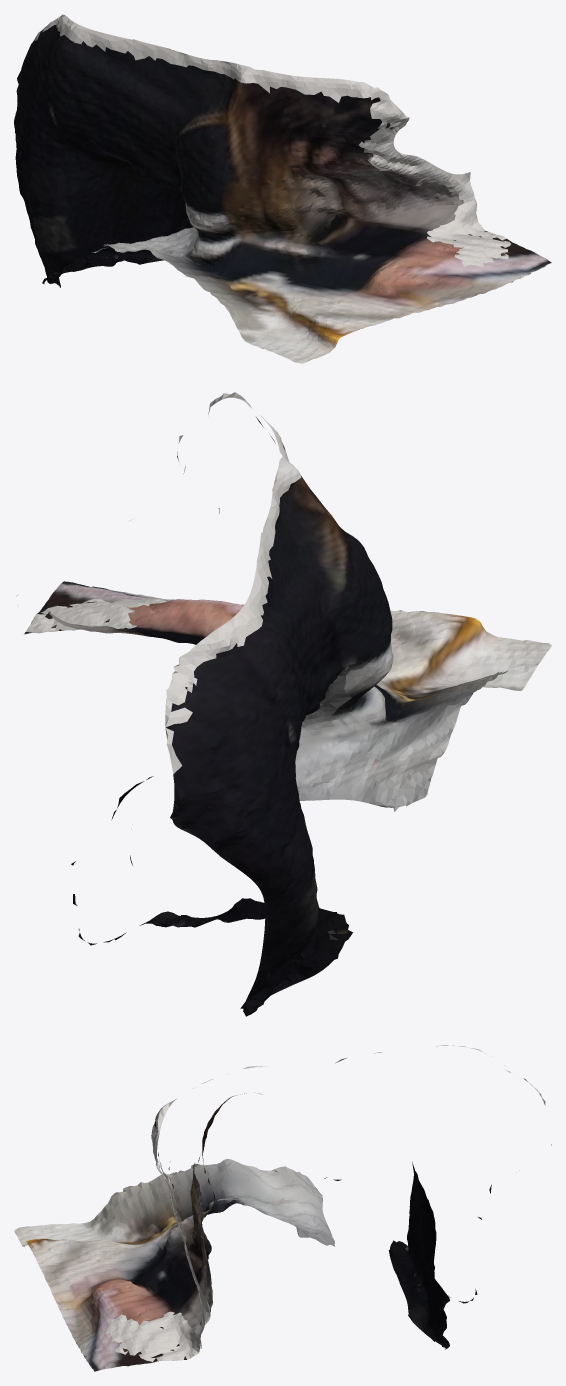
The picture shows the model from 3 angles, top to bottom: view 1: azimuth 30°, elevation 25°; view 2: azimuth 150°, elevation 25°; view 3: azimuth 270°, elevation 25°; orthographic projection. The views are drawn at different scales.
Size of the model in its own units: 0.7619 by 0.5654 by 0.9995.
1 material, 1 textured.
